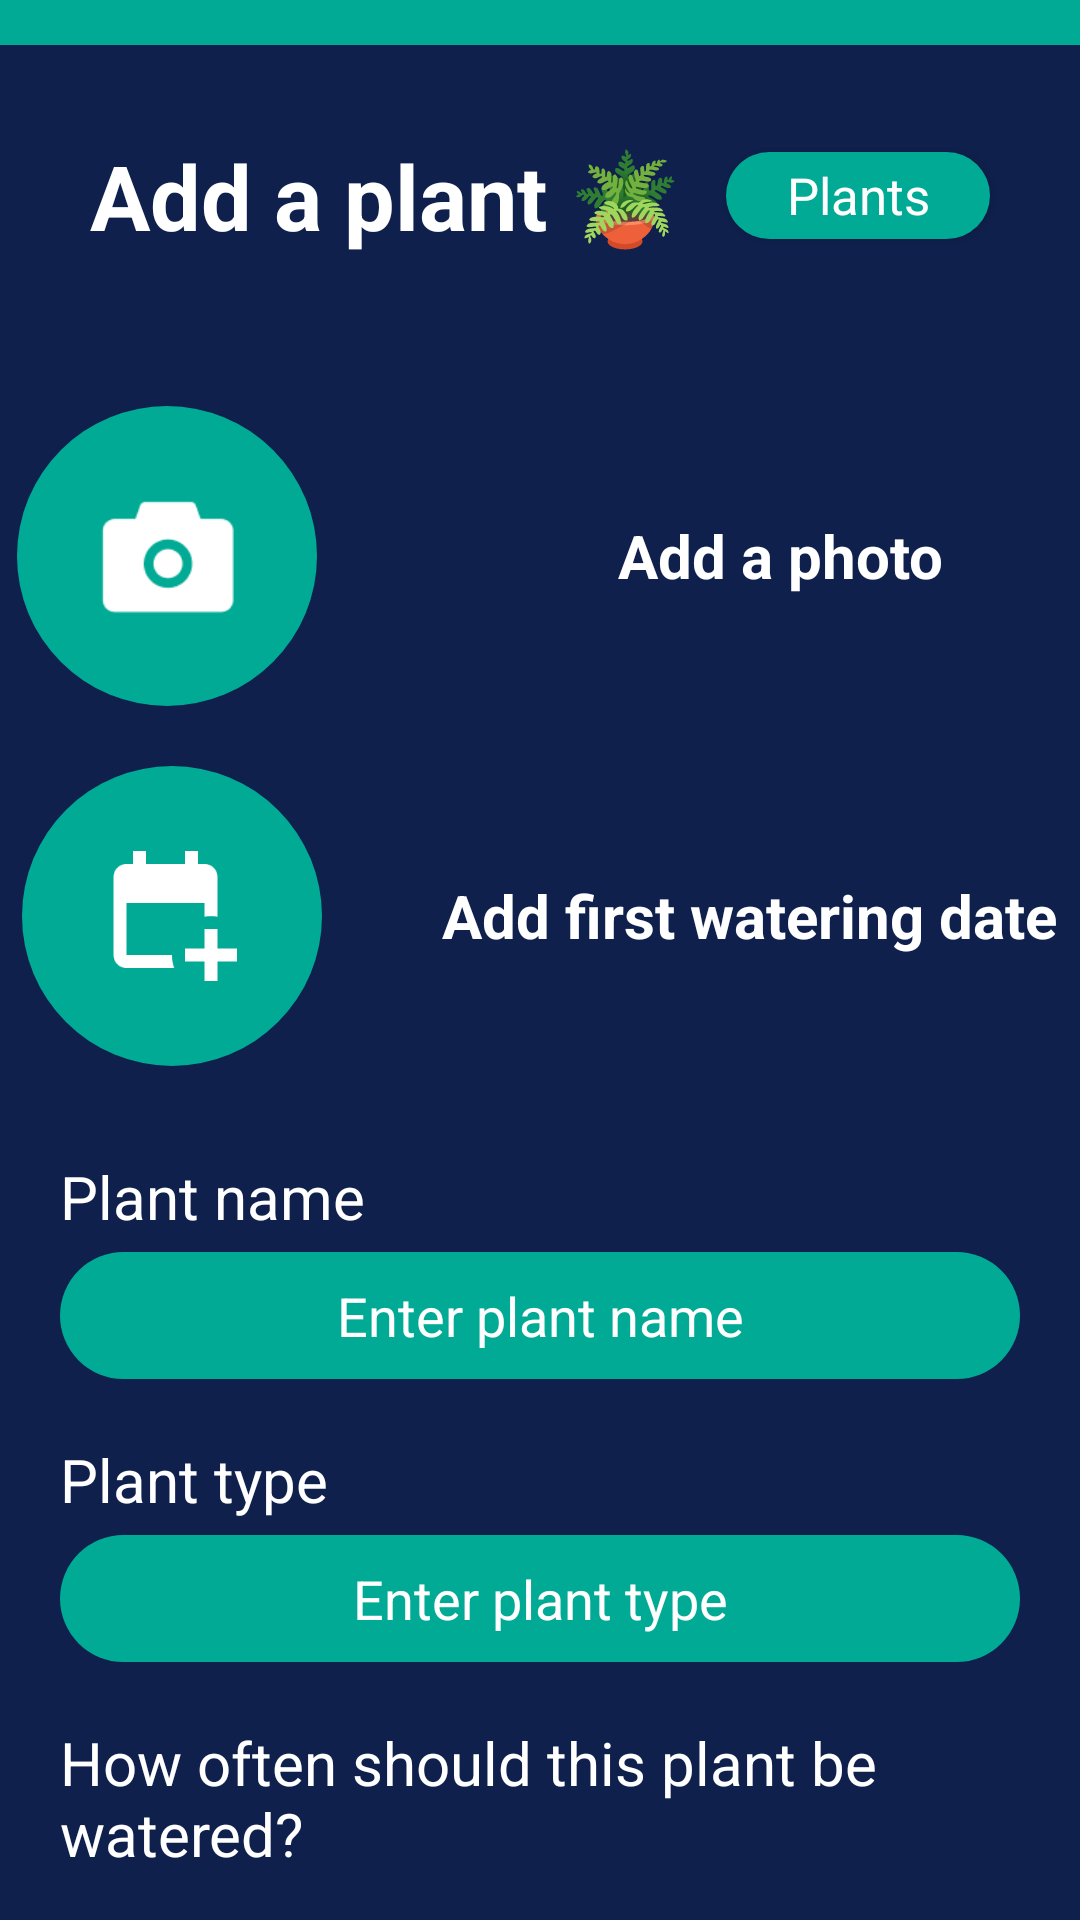

Icons on this 1080x1920 Android screen, each with the point to tap as point (x, y):
Camera button to take a picture: point (167, 556)
